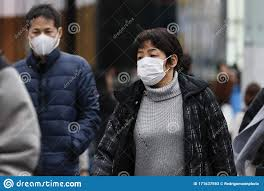mask: (135, 32, 176, 85), (27, 14, 61, 55)
